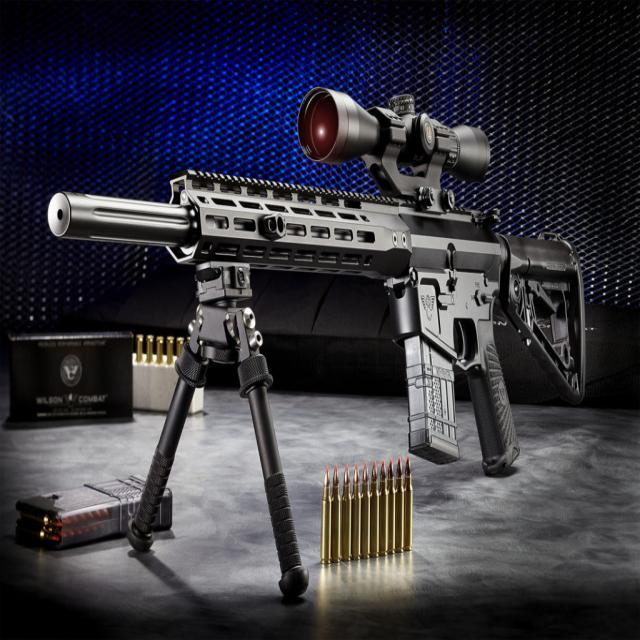Rifle: (48, 89, 586, 478)
